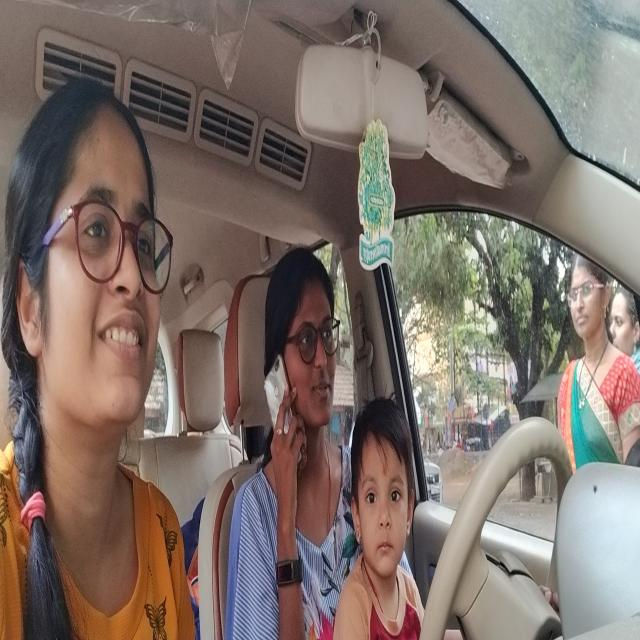child: (354, 408, 415, 586)
mobile: (260, 362, 290, 416)
person: (25, 92, 162, 430), (266, 256, 346, 434)
